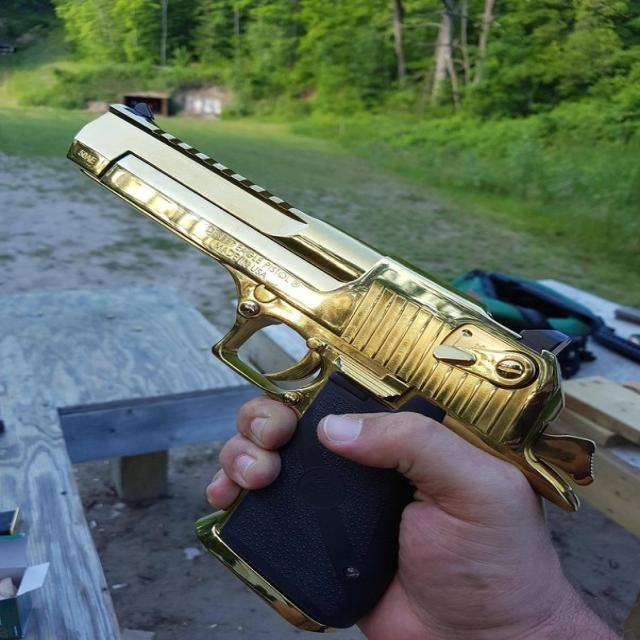HandGun: (66, 94, 595, 634)
